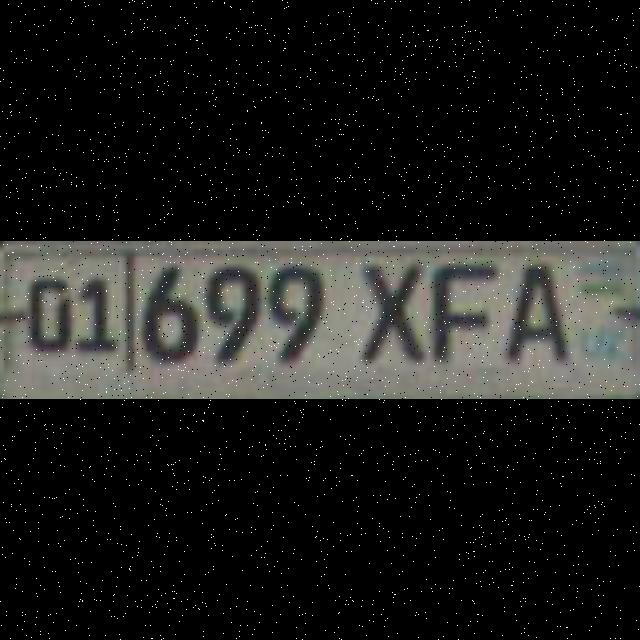0: (24, 276, 66, 348)
1: (71, 272, 111, 348)
6: (134, 264, 193, 360)
9: (264, 260, 320, 360), (202, 260, 256, 360)
A: (502, 256, 564, 356)
F: (426, 260, 494, 360)
X: (356, 256, 422, 360)
